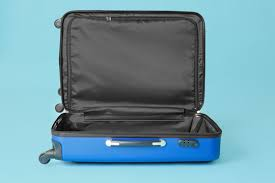suitcase: (34, 8, 224, 166)
